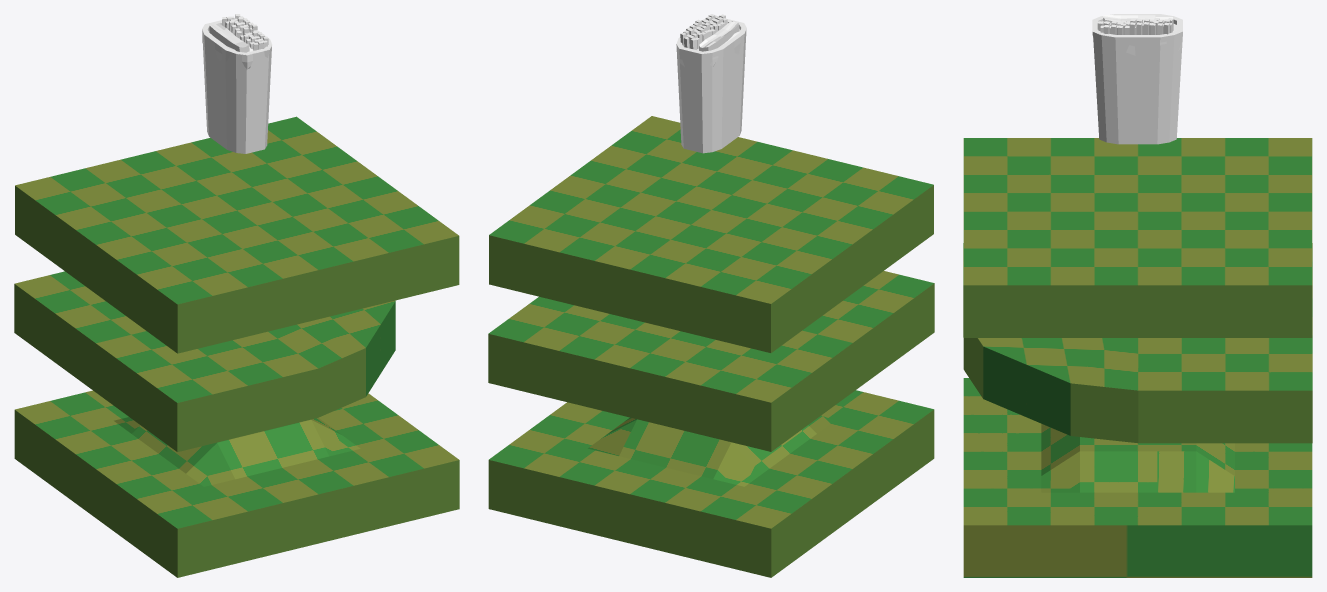
Rendered from essai.glb.
3 views of the same model, side by side, from view 1: azimuth 30°, elevation 25°; view 2: azimuth 150°, elevation 25°; view 3: azimuth 270°, elevation 25° (orthographic). The views are drawn at different scales.
Parts seen in each view (by area): view 1: Plane.001, Plane.002, Plane, TacosWrap, Fries, Steak; view 2: Plane.001, Plane.002, Plane, TacosWrap, Fries, Steak; view 3: Plane.001, Plane.002, Plane, TacosWrap, Fries.
Boxes of the visible parts, box(x1,y1,x2,y2) form: Plane.001: box(15, 116, 459, 353); Plane.002: box(14, 390, 459, 577); Plane: box(14, 271, 395, 451); TacosWrap: box(202, 20, 271, 153); Fries: box(222, 14, 268, 50); Steak: box(209, 23, 249, 52); Plane.001: box(489, 116, 933, 352); Plane.002: box(488, 390, 934, 577); Plane: box(488, 271, 934, 451); TacosWrap: box(676, 19, 746, 153); Fries: box(680, 14, 727, 49); Steak: box(699, 21, 739, 51); Plane.001: box(963, 138, 1312, 337); Plane.002: box(963, 378, 1312, 577); Plane: box(963, 243, 1312, 443); TacosWrap: box(1093, 14, 1182, 144); Fries: box(1097, 17, 1173, 34).
Bounding box in the file's own units: 6.01 × 9.29 × 6.01.
Materials: 4 (1 with a texture image).
